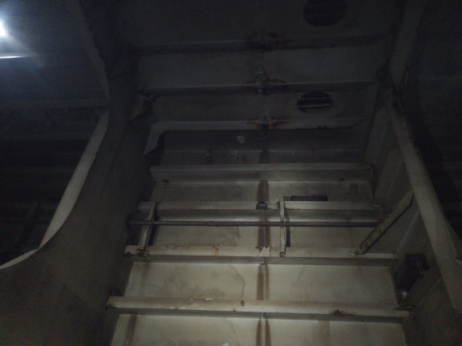corrosion: (243, 258, 286, 301), (247, 309, 287, 342), (250, 130, 280, 163), (248, 217, 280, 247), (243, 176, 276, 198)
